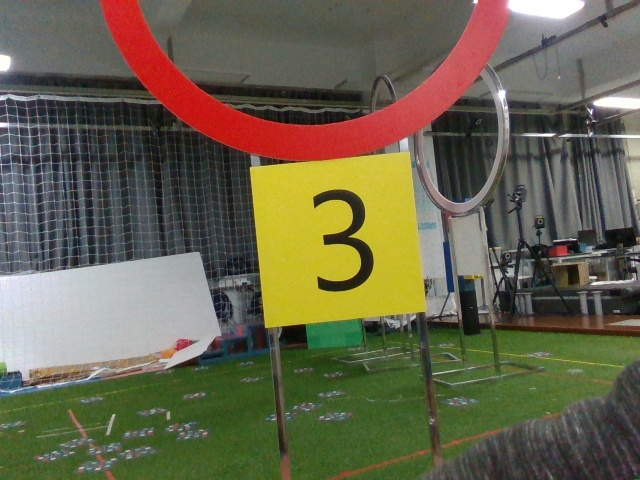target: (259, 161, 416, 312)
